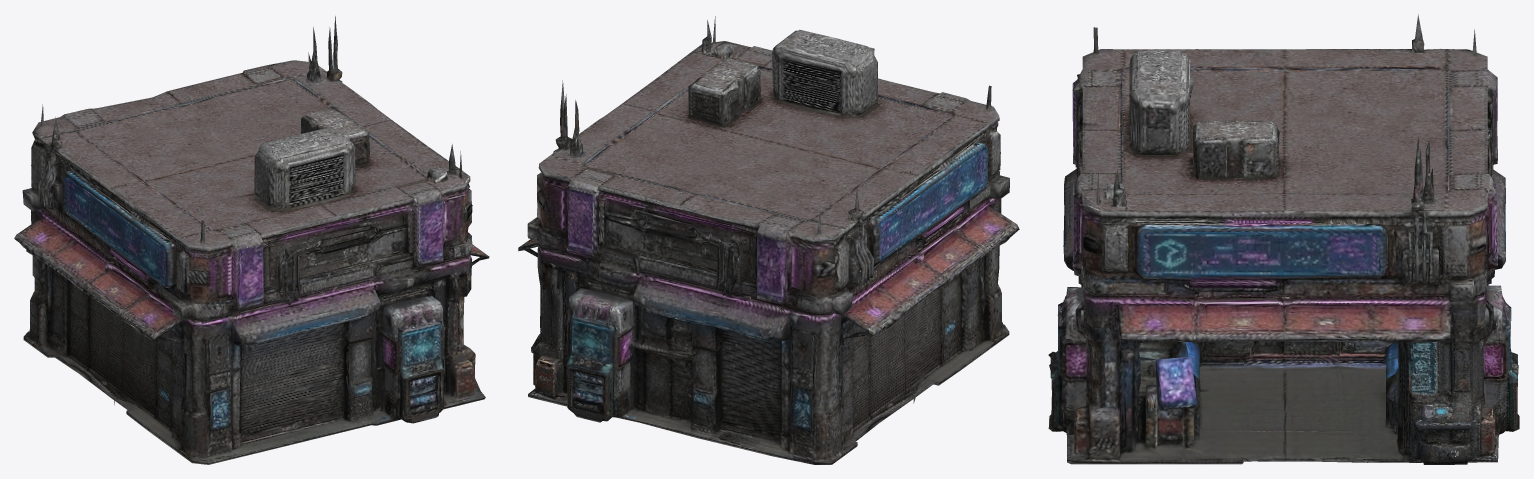
The model's file is tripo_convert_a5363aa7-7bdd-46b0-b0c3-407f0c62683d.fbx.
The picture shows the model from 3 angles, left to right: view 1: azimuth 30°, elevation 25°; view 2: azimuth 150°, elevation 25°; view 3: azimuth 270°, elevation 25°; orthographic projection. The views are drawn at different scales.
Parts seen in each view (by area): view 1: tripo_node_a5363aa7; view 2: tripo_node_a5363aa7; view 3: tripo_node_a5363aa7.
Boxes of the visible parts, x1,y1,x2,y2 form: tripo_node_a5363aa7: [14, 16, 489, 464]; tripo_node_a5363aa7: [518, 16, 1019, 464]; tripo_node_a5363aa7: [1048, 14, 1519, 464].
Bounding box in the file's own units: 0.9615 × 0.7672 × 0.9803.
1 material, 1 textured.
